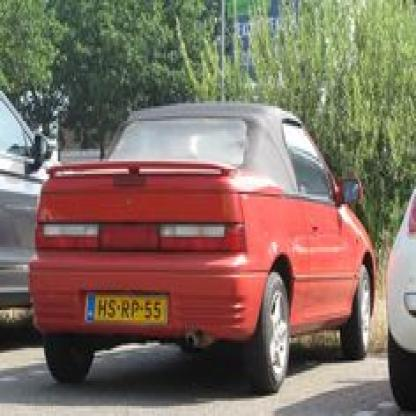car back: (24, 96, 377, 398)
number plate: (92, 290, 171, 324)
